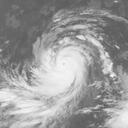cyclone: (35, 35, 92, 104)
